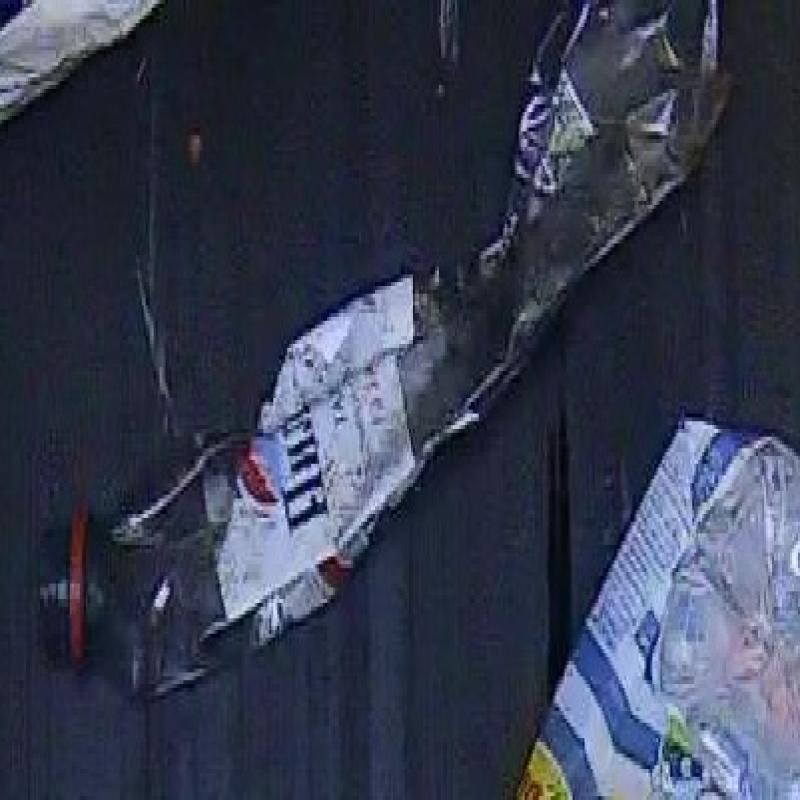botella: (24, 0, 741, 708)
